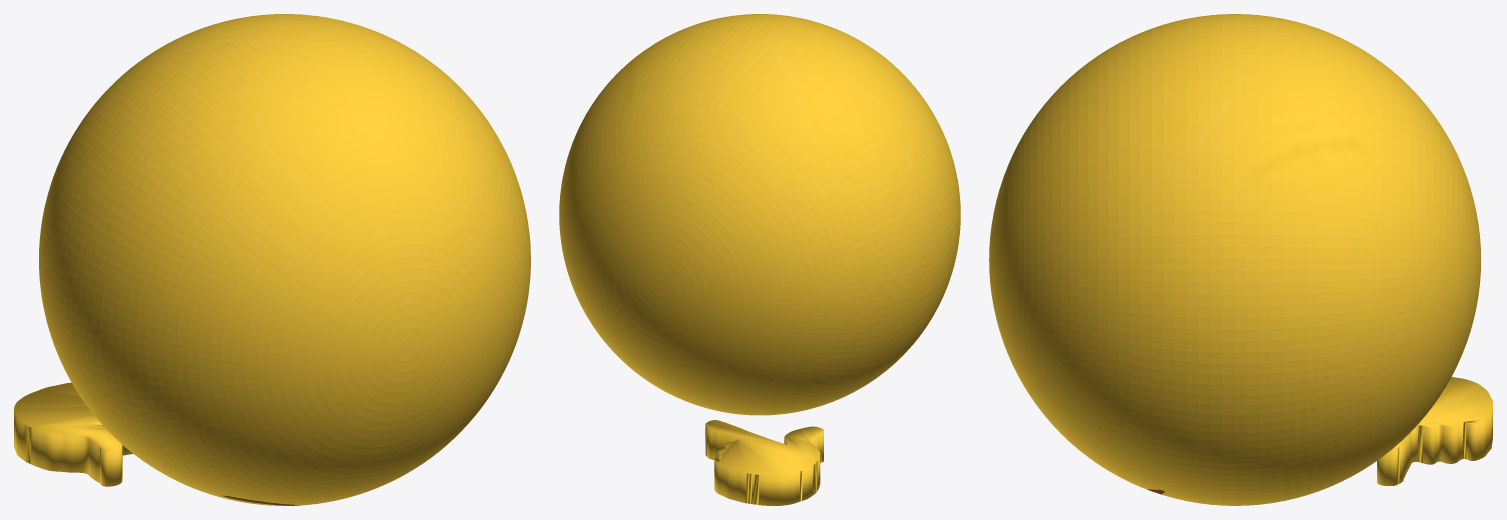
The model's file is wrs_fcsc_emoticon_think.dae.
3 renders of one model, left to right at view 1: azimuth 30°, elevation 25°; view 2: azimuth 150°, elevation 25°; view 3: azimuth 270°, elevation 25°, orthographic. The views are drawn at different scales.
Parts seen in each view (by area): view 1: Sphere; view 2: Sphere; view 3: Sphere.
Boxes of the visible parts, x1,y1,x2,y2 form: Sphere: (14, 14, 530, 505); Sphere: (559, 14, 960, 505); Sphere: (989, 14, 1492, 505).
Size of the model in its own units: 0.2 by 0.2048 by 0.2041.
1 material, 1 textured.
